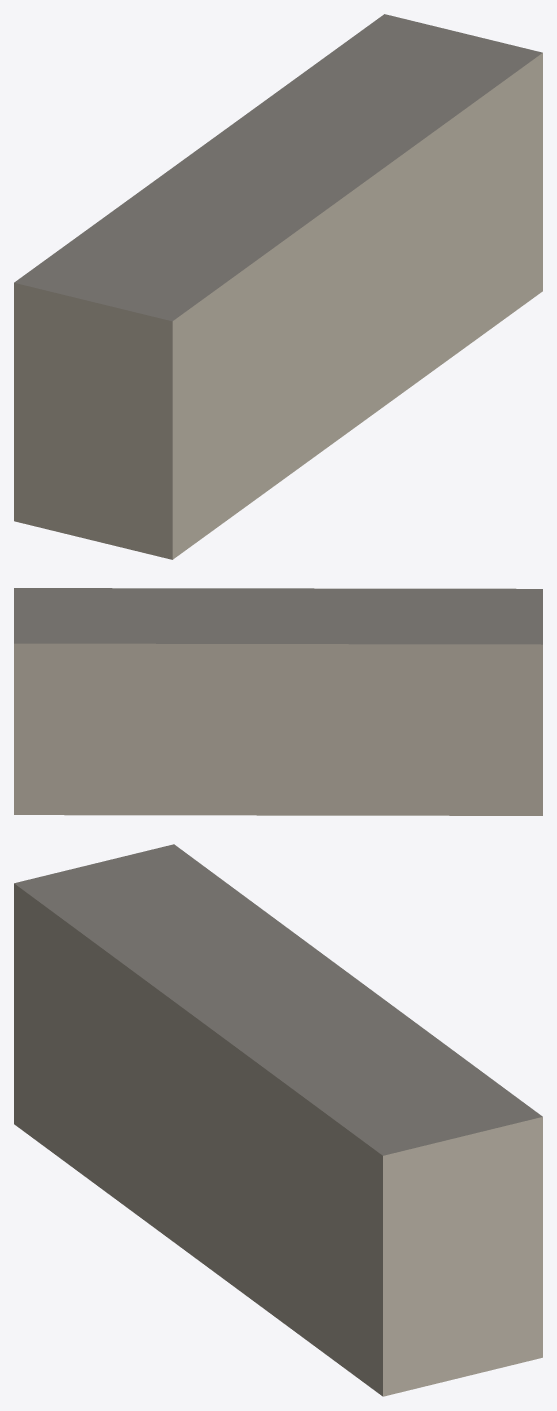
3 views of the same model, one above another, from view 1: azimuth 30°, elevation 25°; view 2: azimuth 150°, elevation 25°; view 3: azimuth 270°, elevation 25° (orthographic). The views are drawn at different scales.
Visible parts, largest first — view 1: HP-w1287260184; view 2: HP-w1287260184; view 3: HP-w1287260184.
Boxes of the visible parts, x1,y1,x2,y2 form: HP-w1287260184: [14, 14, 542, 559]; HP-w1287260184: [14, 588, 542, 815]; HP-w1287260184: [14, 844, 542, 1396].
Size of the model in its own units: 49.94 by 18 by 35.82.
